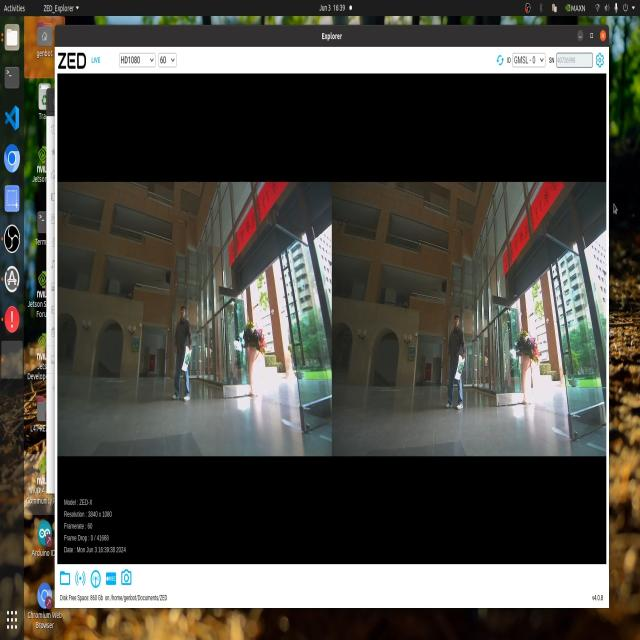green: (183, 347, 192, 372), (455, 363, 465, 379)
